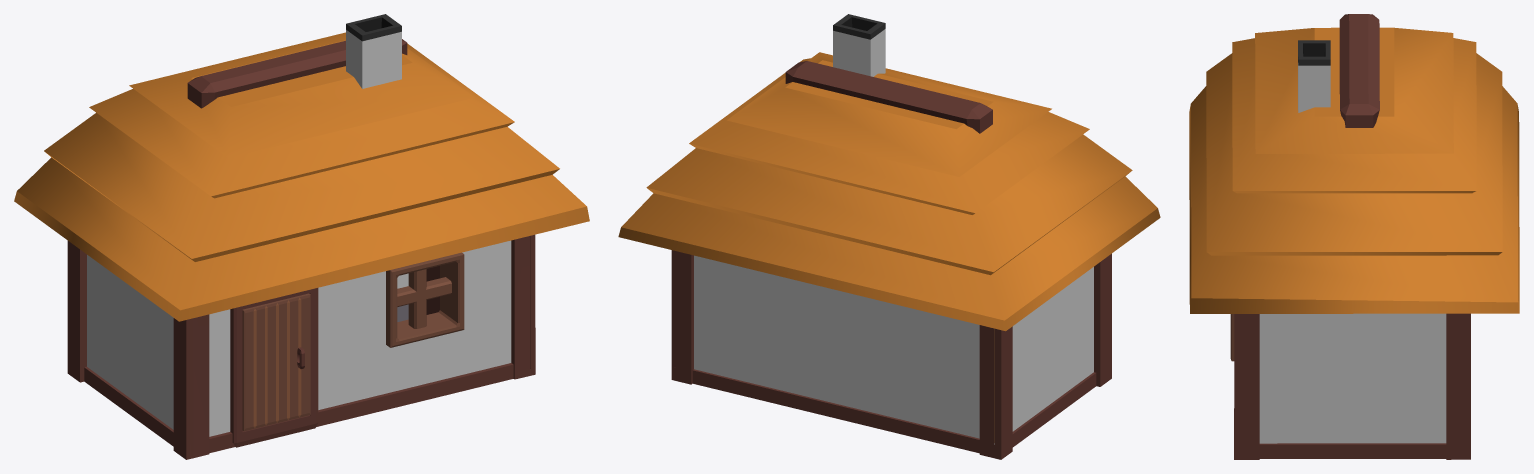
Rendered from kurin_new.fbx.
The picture shows the model from 3 angles, left to right: view 1: azimuth 30°, elevation 25°; view 2: azimuth 150°, elevation 25°; view 3: azimuth 270°, elevation 25°; orthographic projection. The views are drawn at different scales.
Visible parts, largest first — view 1: roof.001, door.001; view 2: roof.001; view 3: roof.001.
Boxes of the visible parts, bbox=[...] form: roof.001: bbox=[14, 14, 589, 459]; door.001: bbox=[242, 293, 310, 431]; roof.001: bbox=[618, 14, 1160, 459]; roof.001: bbox=[1189, 14, 1519, 459].
Size of the model in its own units: 512 by 417 by 356.
